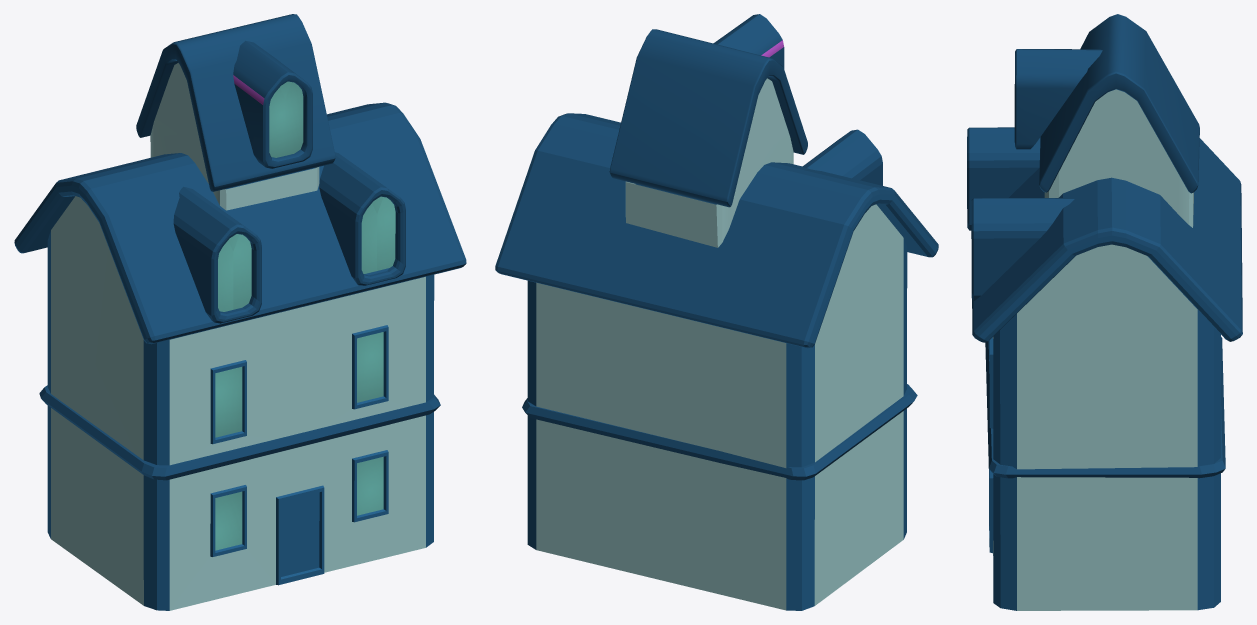
The model's file is SM_House_14.fbx.
3 views of the same model, side by side, from view 1: azimuth 30°, elevation 25°; view 2: azimuth 150°, elevation 25°; view 3: azimuth 270°, elevation 25° (orthographic).
Parts seen in each view (by area): view 1: SM_House_14; view 2: SM_House_14; view 3: SM_House_14.
Boxes of the visible parts, x1,y1,x2,y2 form: SM_House_14: (14,14,466,610); SM_House_14: (495,14,938,610); SM_House_14: (967,14,1242,610).
Bounding box in the file's own units: 762 × 1142 × 571.
